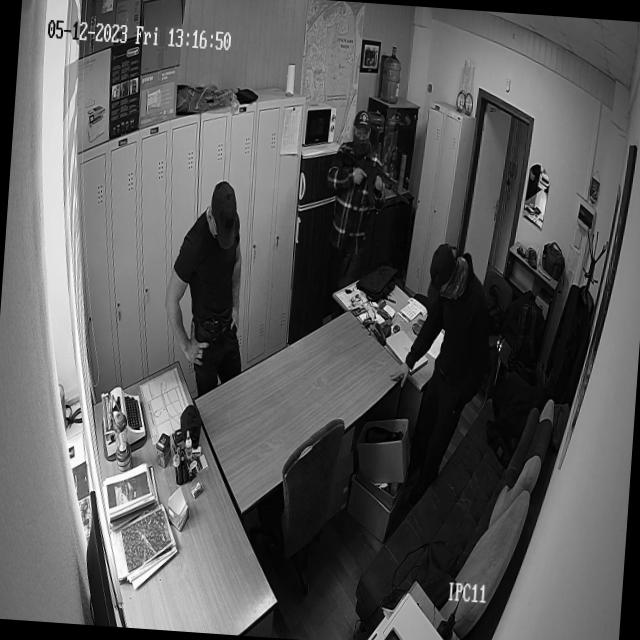gun: (337, 146, 412, 218)
person: (158, 172, 256, 368), (390, 234, 497, 409)
person with a gun: (319, 104, 416, 272)
